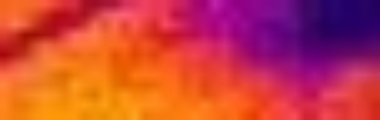Shadow: (221, 1, 380, 77)
